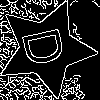D: (21, 23, 76, 69)
